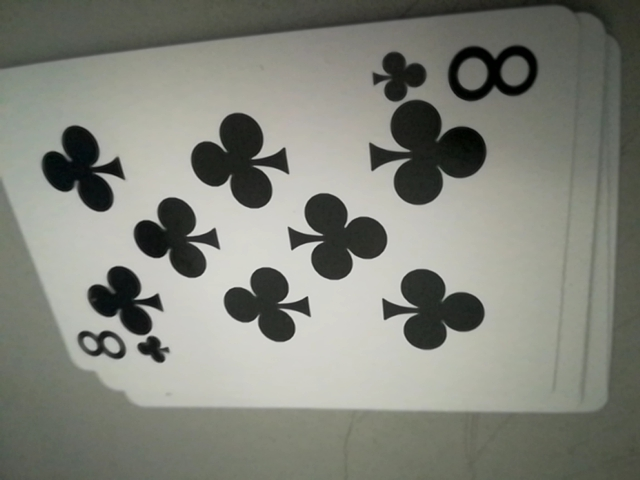mh 8: (369, 31, 540, 108), (71, 323, 166, 372)
